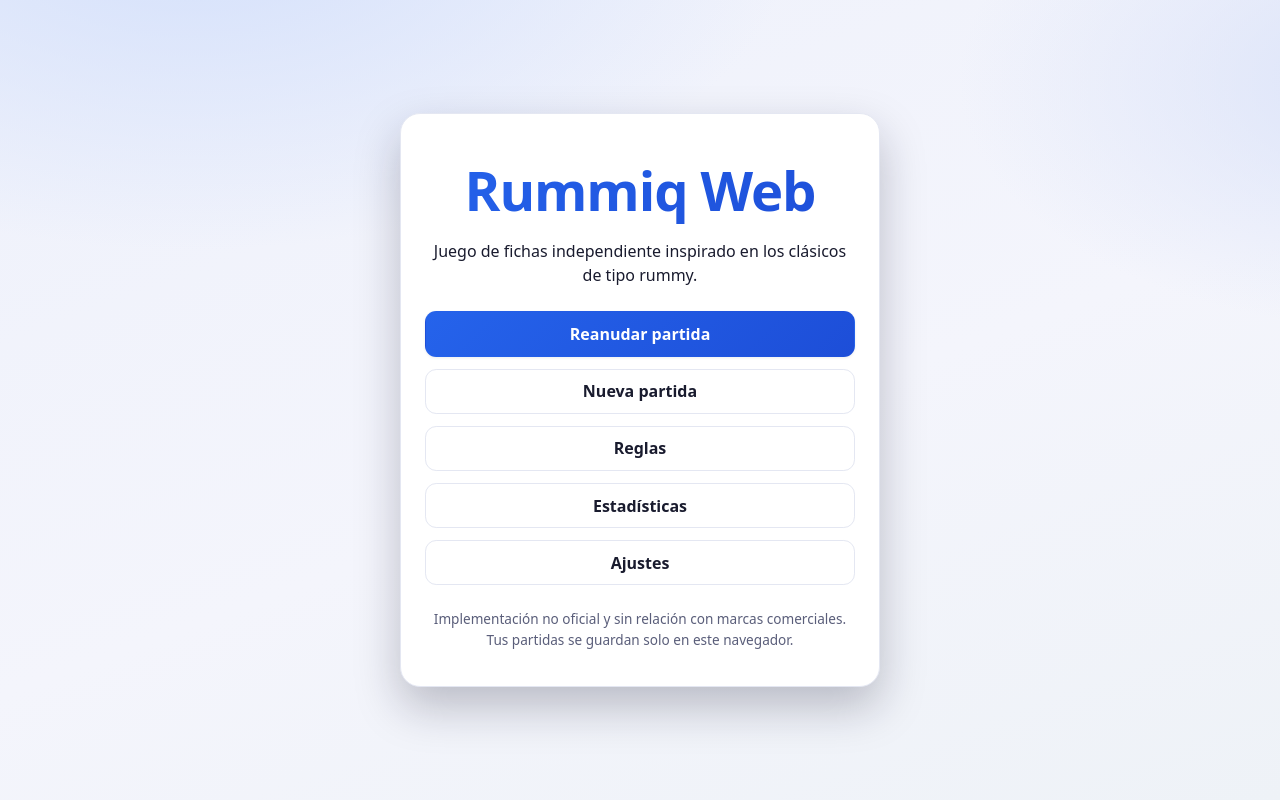
it: interacción del tablero (selección y botones) › muestra un mensaje cuando la apertura es insuficiente
What coordinates should you click on to do the following:
click the button "Reanudar partida"
I would click on:
 (640, 334)
Its box is top-left (425, 311), bottom-right (855, 357).
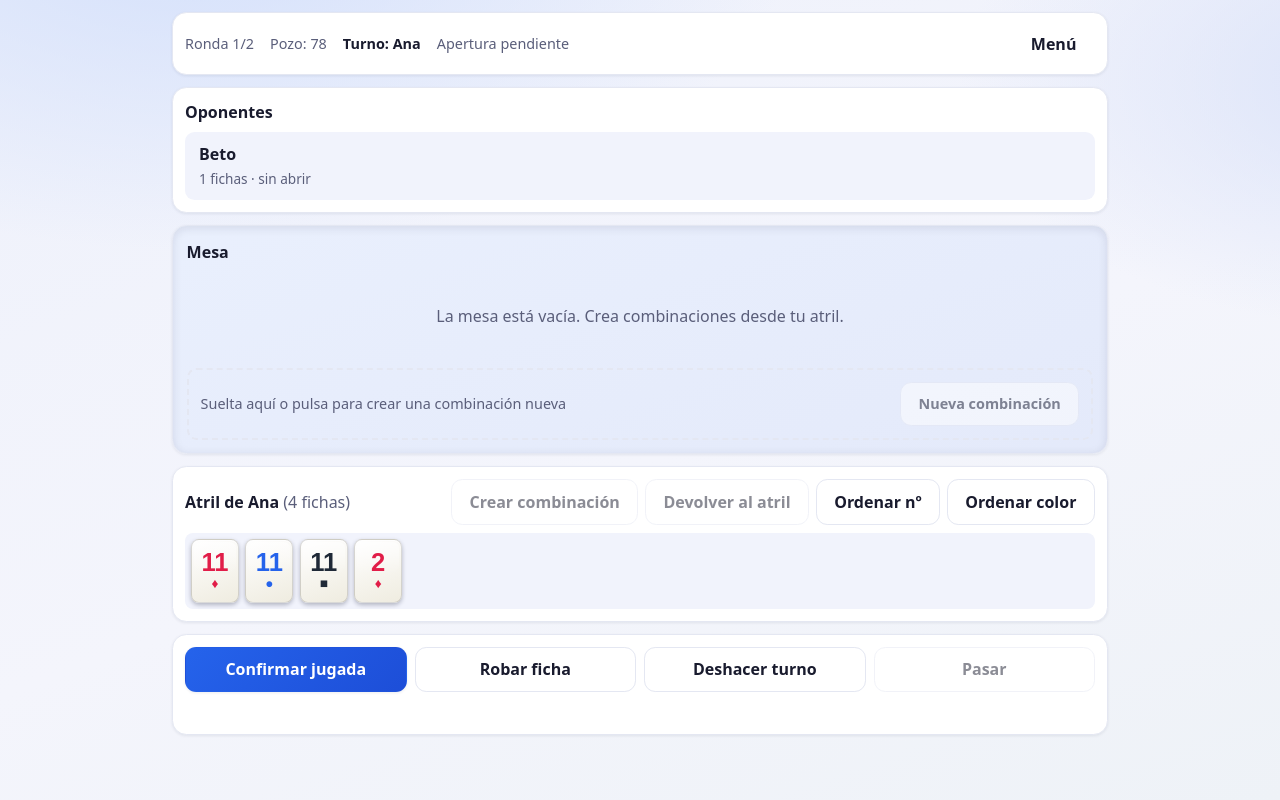
Note: Baja solo el 2 rojo como combinación (inválida e insuficiente) y confirma.
What coordinates should you click on to do the following:
click the button named "2 rojo"
I would click on:
 (378, 571)
Its box is top-left (354, 539), bottom-right (402, 603).
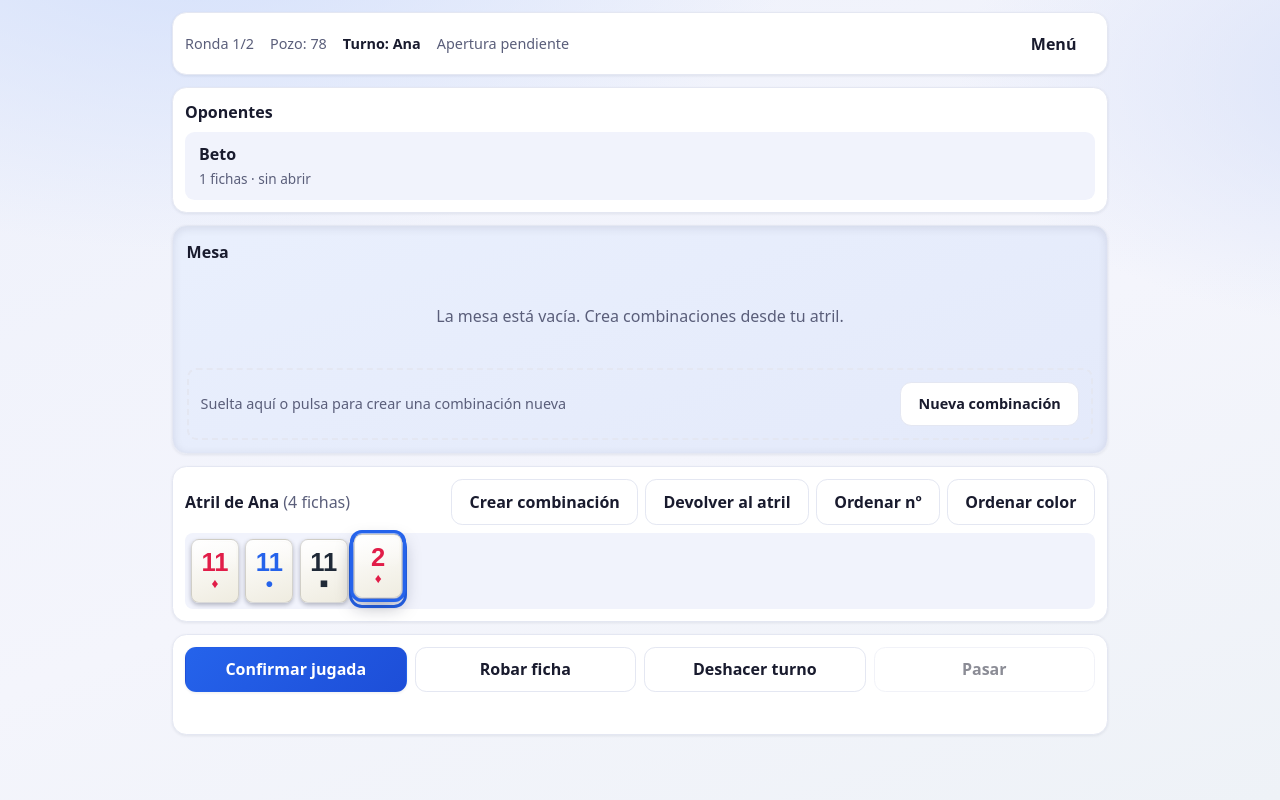
What coordinates should you click on to do the following:
click the button "Crear combinación"
I would click on:
 (545, 502)
Its box is top-left (451, 479), bottom-right (638, 525).
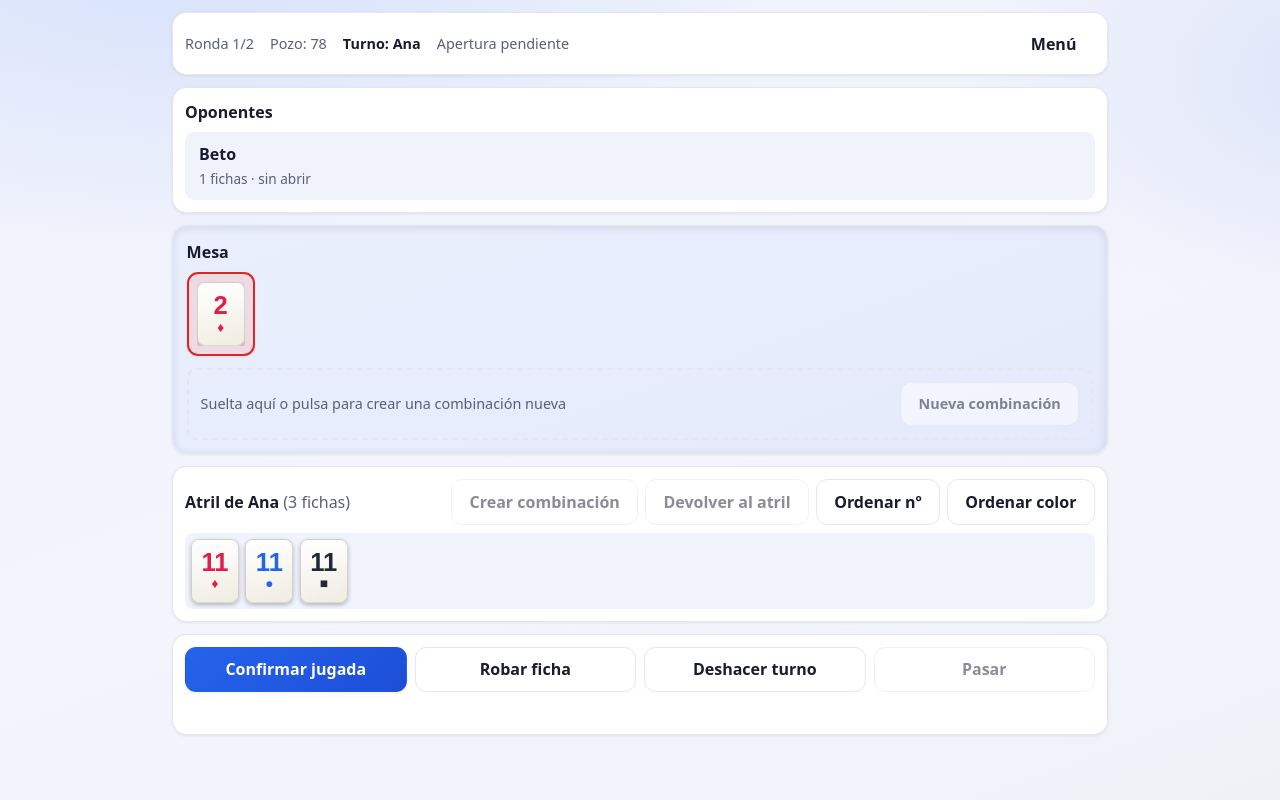
What coordinates should you click on to do the following:
click the button "Confirmar jugada"
I would click on:
 (296, 669)
Its box is top-left (185, 647), bottom-right (406, 692).
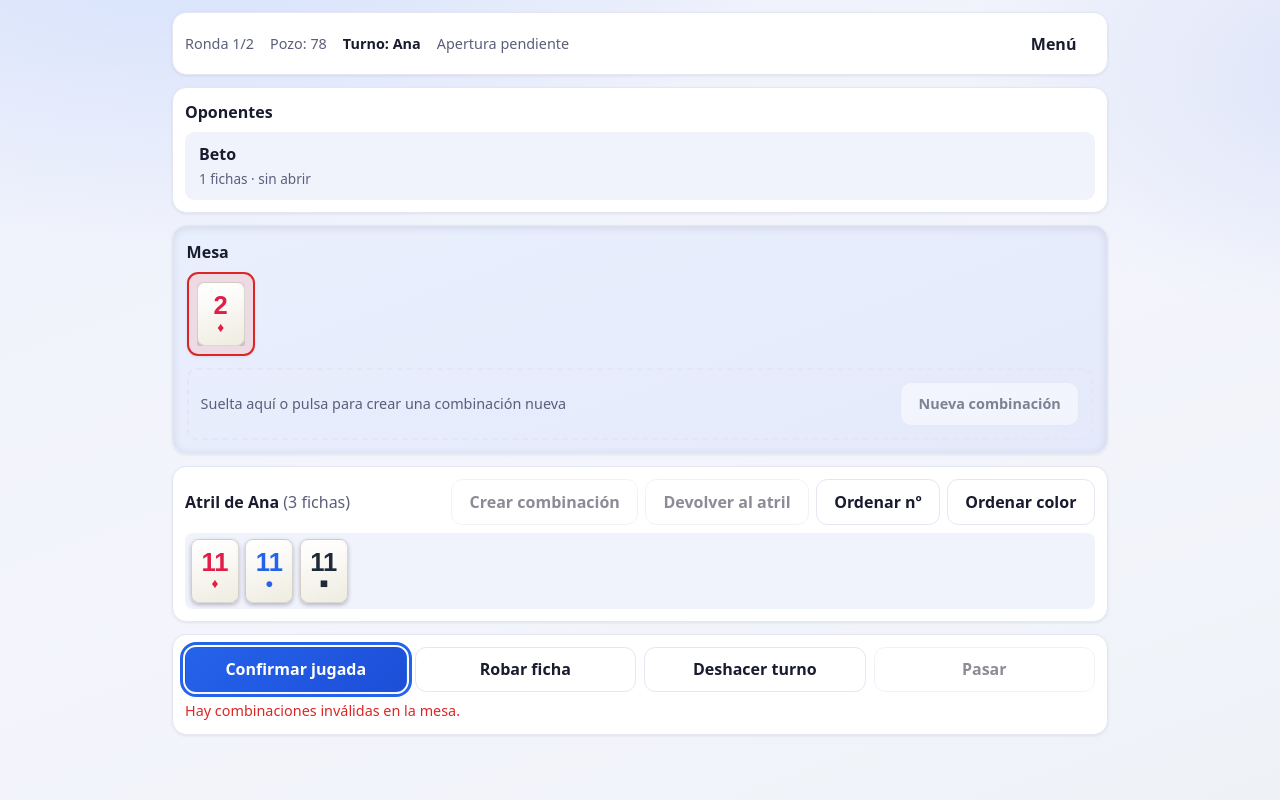
expect the text "Turno: Ana" is shown: met, box top-left (343, 33), bottom-right (421, 54)
expect the text "Hay combinaciones inválidas en la mesa." is shown: met, box top-left (185, 701), bottom-right (460, 720)
